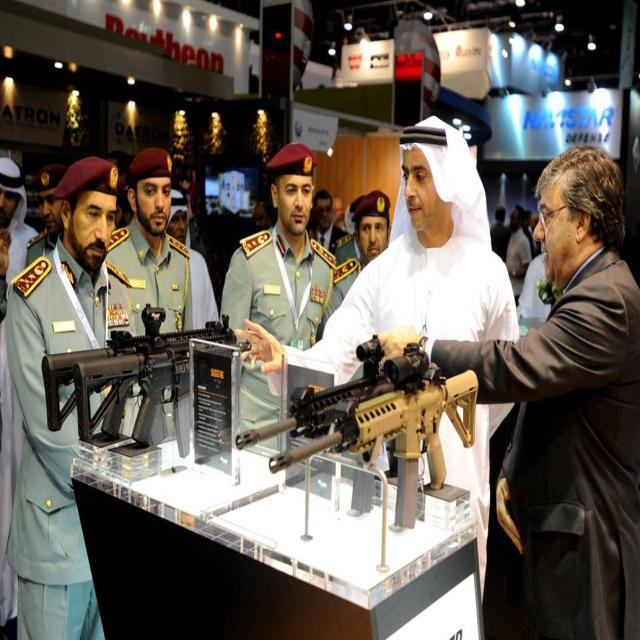body: (234, 114, 521, 603), (374, 143, 640, 640), (0, 139, 147, 638), (217, 136, 341, 452), (105, 145, 193, 442), (322, 188, 393, 329), (164, 184, 221, 331), (489, 200, 553, 330), (20, 158, 74, 272), (0, 158, 42, 289), (308, 183, 361, 265), (0, 223, 17, 451), (504, 202, 533, 308), (108, 147, 140, 235), (187, 184, 218, 267), (247, 190, 278, 238), (246, 62, 260, 98)
